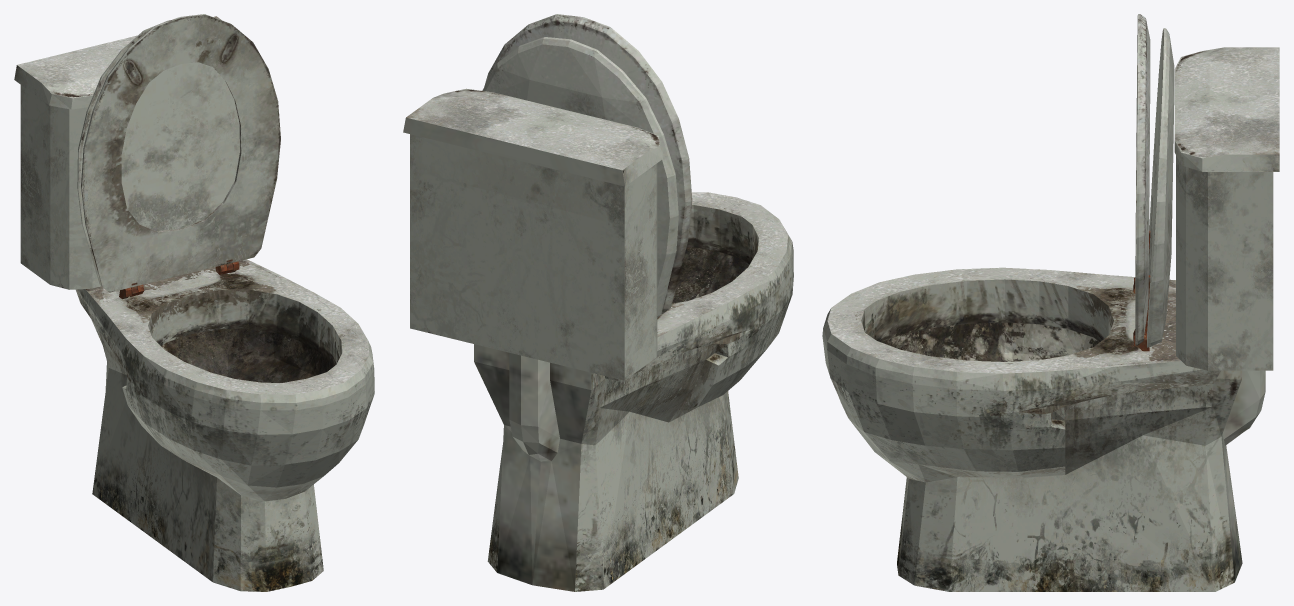
The model's file is Toilet.obj.
3 renders of one model, left to right at view 1: azimuth 30°, elevation 25°; view 2: azimuth 150°, elevation 25°; view 3: azimuth 270°, elevation 25°, orthographic. The views are drawn at different scales.
Visible parts, largest first — view 1: toilet; view 2: toilet; view 3: toilet.
Boxes of the visible parts, x1,y1,x2,y2 form: toilet: (14,14,374,591); toilet: (403,14,793,591); toilet: (822,14,1279,591).
Size of the model in its own units: 0.4604 by 1.05 by 0.8072.
